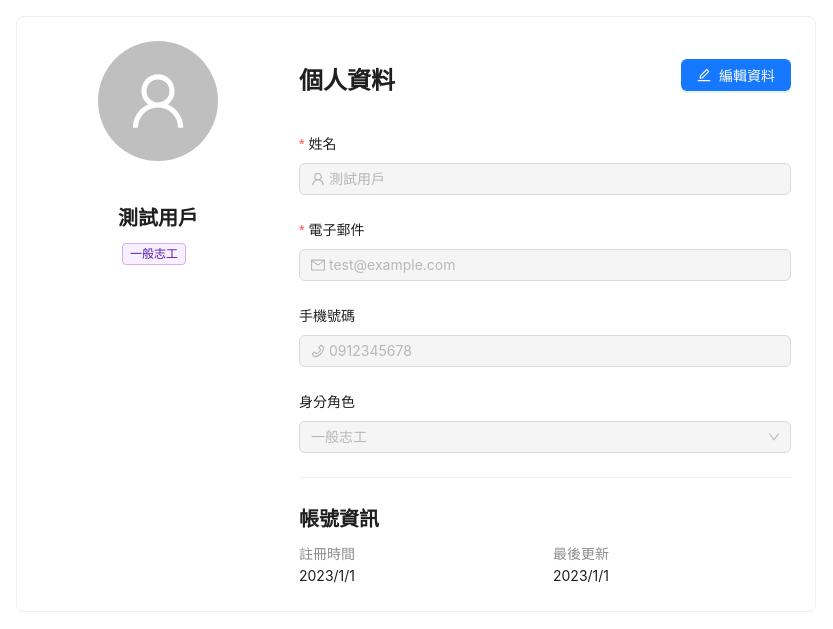
ProfilePage › shows edit button and allows editing
Expected: the text "編輯資料" is shown, x1=719 y1=65 x2=775 y2=85
Click the button "編輯資料" at [736, 75], box x1=681 y1=59 x2=791 y2=91
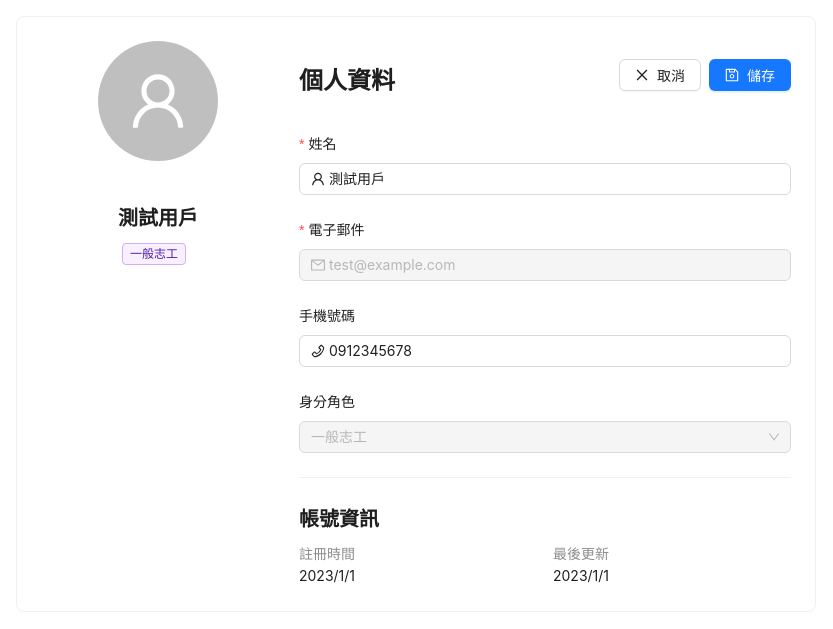
Expected: the text "儲存" is shown, x1=747 y1=65 x2=775 y2=85
Expected: the text "取消" is shown, x1=657 y1=65 x2=685 y2=85
